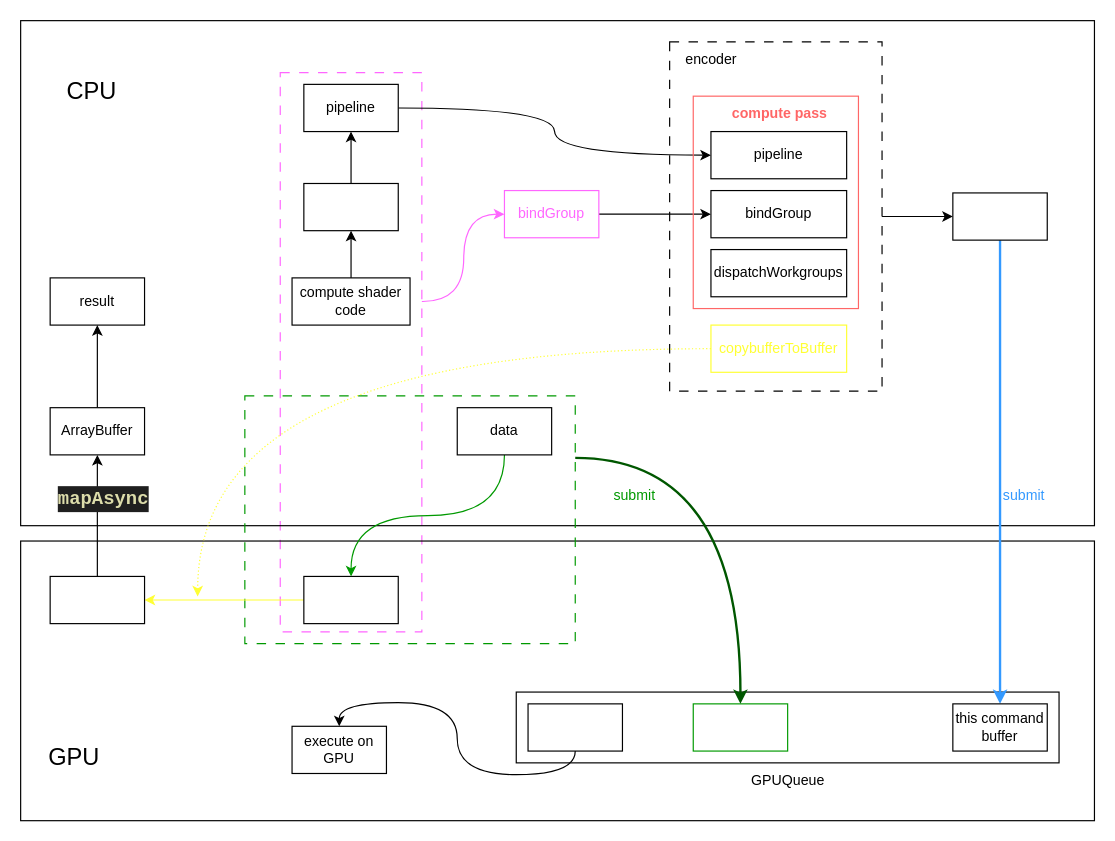
The diagram is 1115 pixels wide and 841 high, and some of its shapes have lost their labels. The shapes that lost their labels are listed below. From the top down, each one's box as (x1, y1, x2, y2) in pixels, then its label:
(303, 182, 398, 231): module
(952, 192, 1047, 240): command buffer
(49, 575, 145, 624): resultBuffer
(303, 575, 398, 624): workBuffer
(527, 703, 622, 751): other command
(692, 703, 788, 751): writeBuffer command
